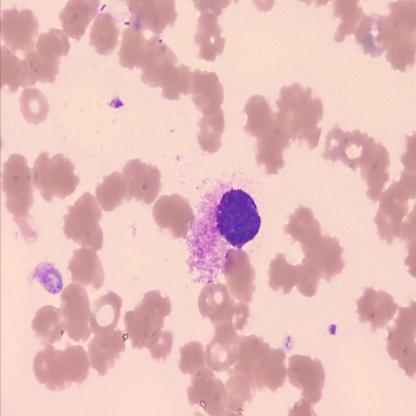Basophil: (215, 185, 262, 252)
